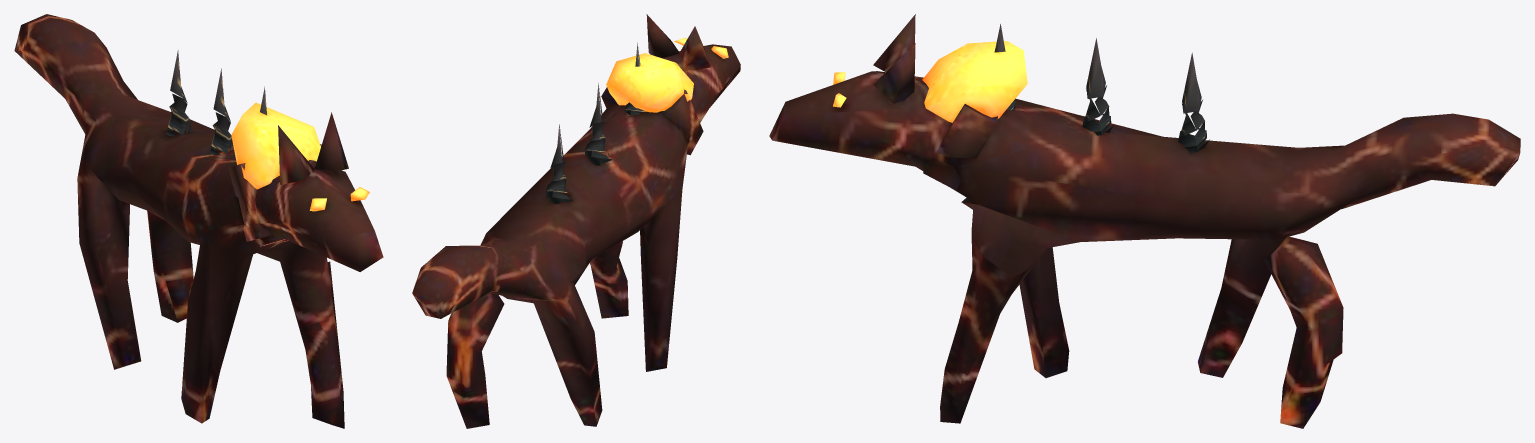
File: u_skirm_x_g.glb
The picture shows the model from 3 angles, left to right: view 1: azimuth 30°, elevation 25°; view 2: azimuth 150°, elevation 25°; view 3: azimuth 270°, elevation 25°; orthographic projection. The views are drawn at different scales.
Parts seen in each view (by area): view 1: u_skirm_x; view 2: u_skirm_x; view 3: u_skirm_x.
Boxes of the visible parts, x1,y1,x2,y2 form: u_skirm_x: (14, 14, 383, 428); u_skirm_x: (412, 14, 740, 428); u_skirm_x: (769, 14, 1520, 428).
Bounding box in the file's own units: 0.4302 × 1.05 × 1.88.
Materials: 2 (2 with a texture image).
